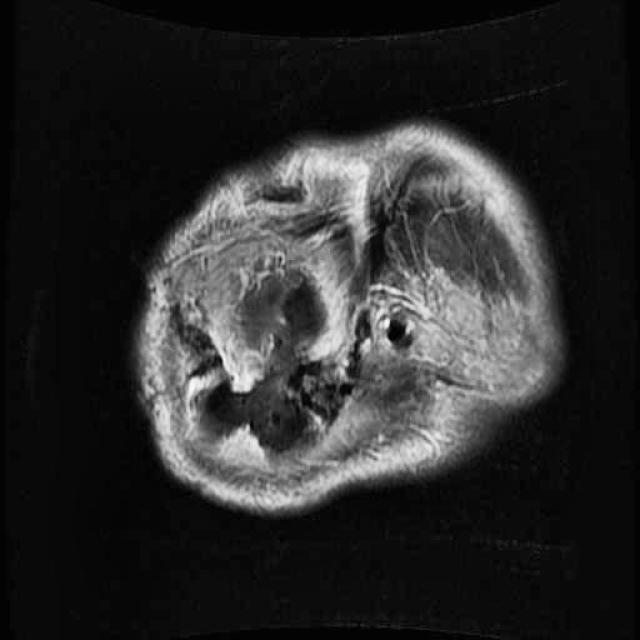Tumor: (186, 246, 339, 470)
